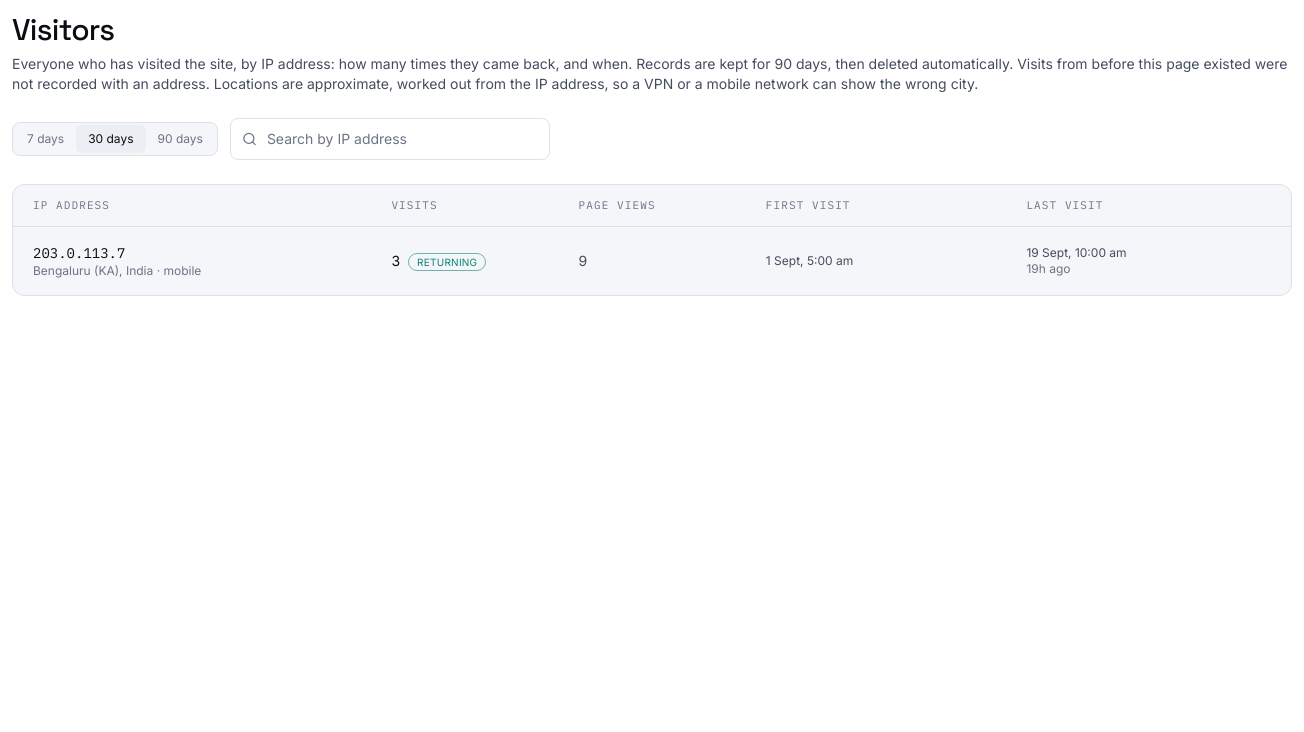
Test: admin visitors › shows the place of each individual visit too
The image size is (1304, 732).
Click the button "203.0.113.7": (79, 252) top-left (13, 226), bottom-right (1291, 294)
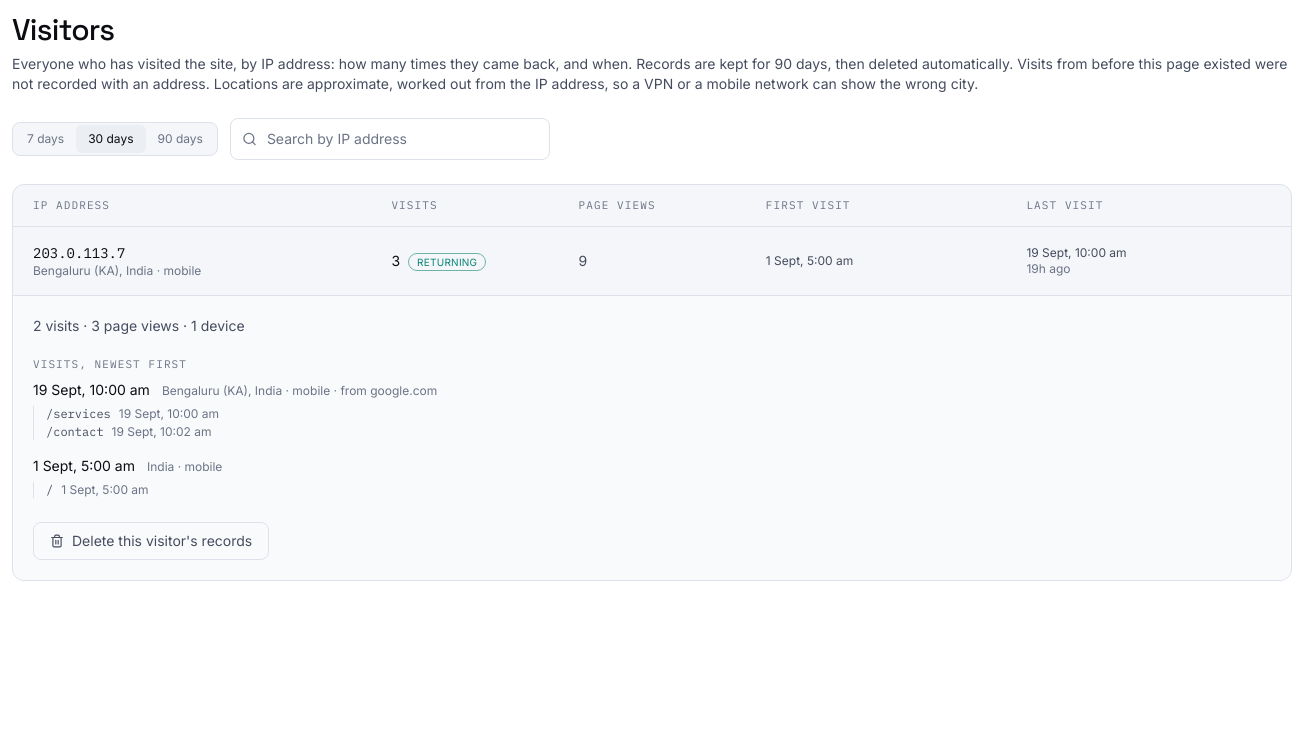
Now the text "Bengaluru (KA), India · mobile · from google.com" is shown, box top-left (162, 383), bottom-right (437, 399)
